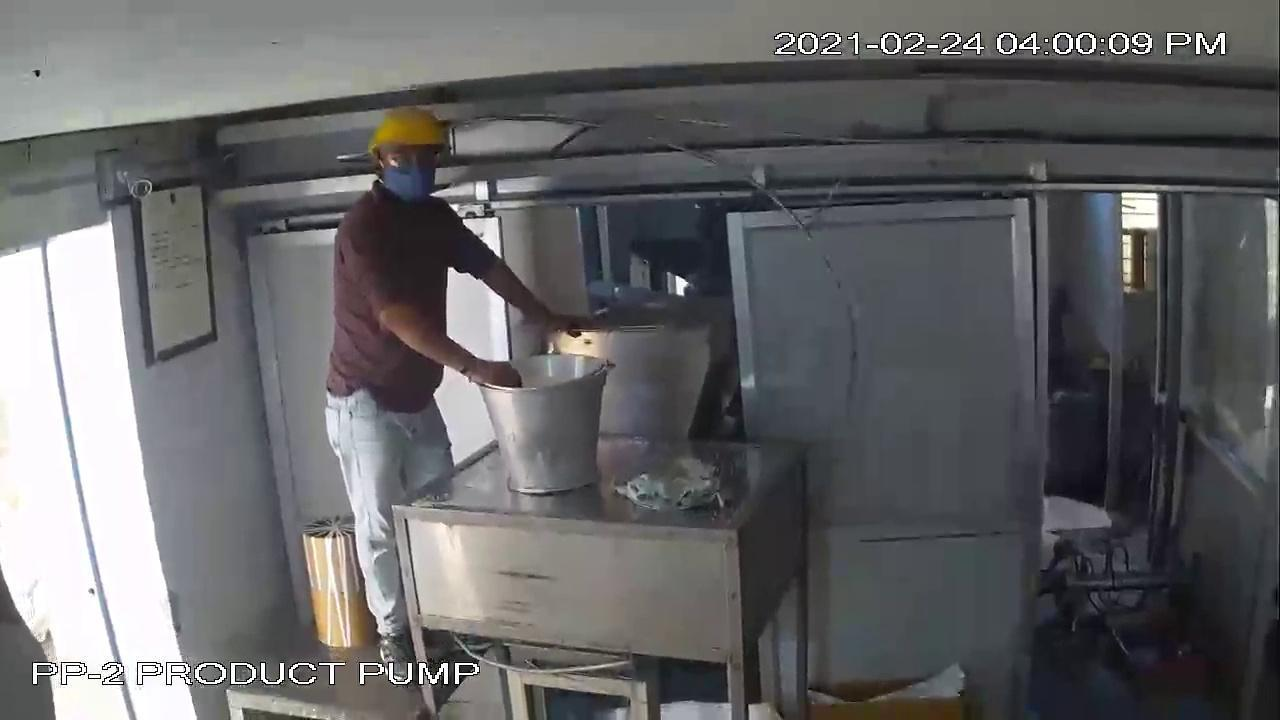helmet: (357, 92, 454, 168)
